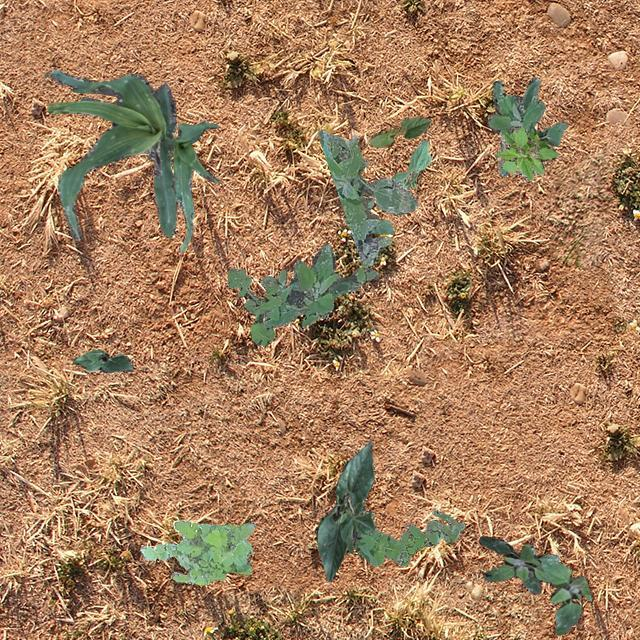crop: (44, 68, 175, 240), (316, 440, 376, 580), (170, 120, 218, 252), (368, 115, 430, 146), (390, 140, 430, 188), (72, 348, 132, 372), (366, 196, 392, 234)
weed: (316, 128, 416, 266), (244, 242, 378, 328), (486, 76, 566, 176), (140, 520, 254, 584), (354, 508, 464, 566), (478, 536, 558, 594), (226, 268, 282, 344), (538, 558, 590, 634), (493, 126, 558, 180)
